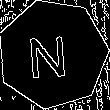N_N: (31, 28, 75, 81)
